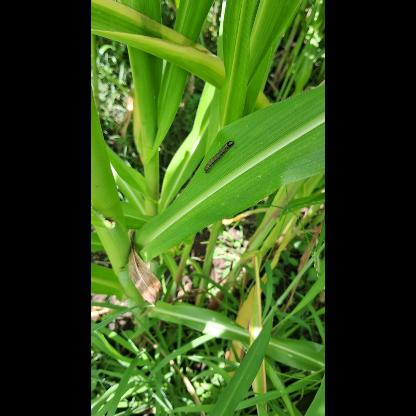Fall Armyworm Larvae: (202, 140, 236, 174)
